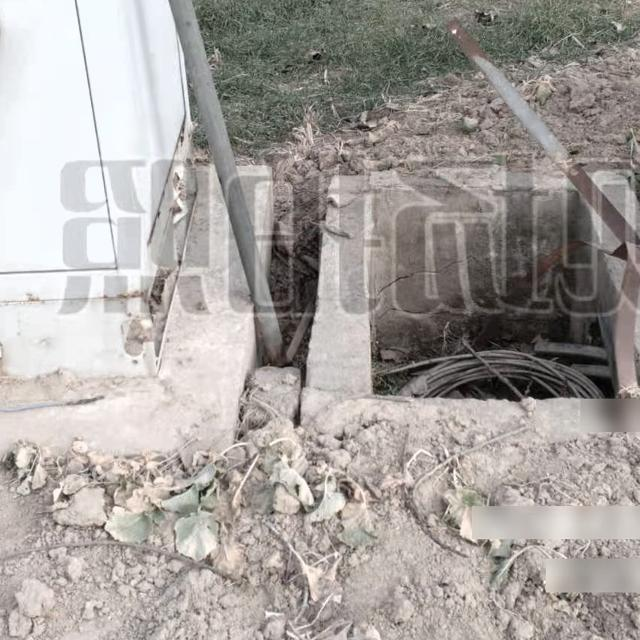lose: (365, 169, 640, 401)
